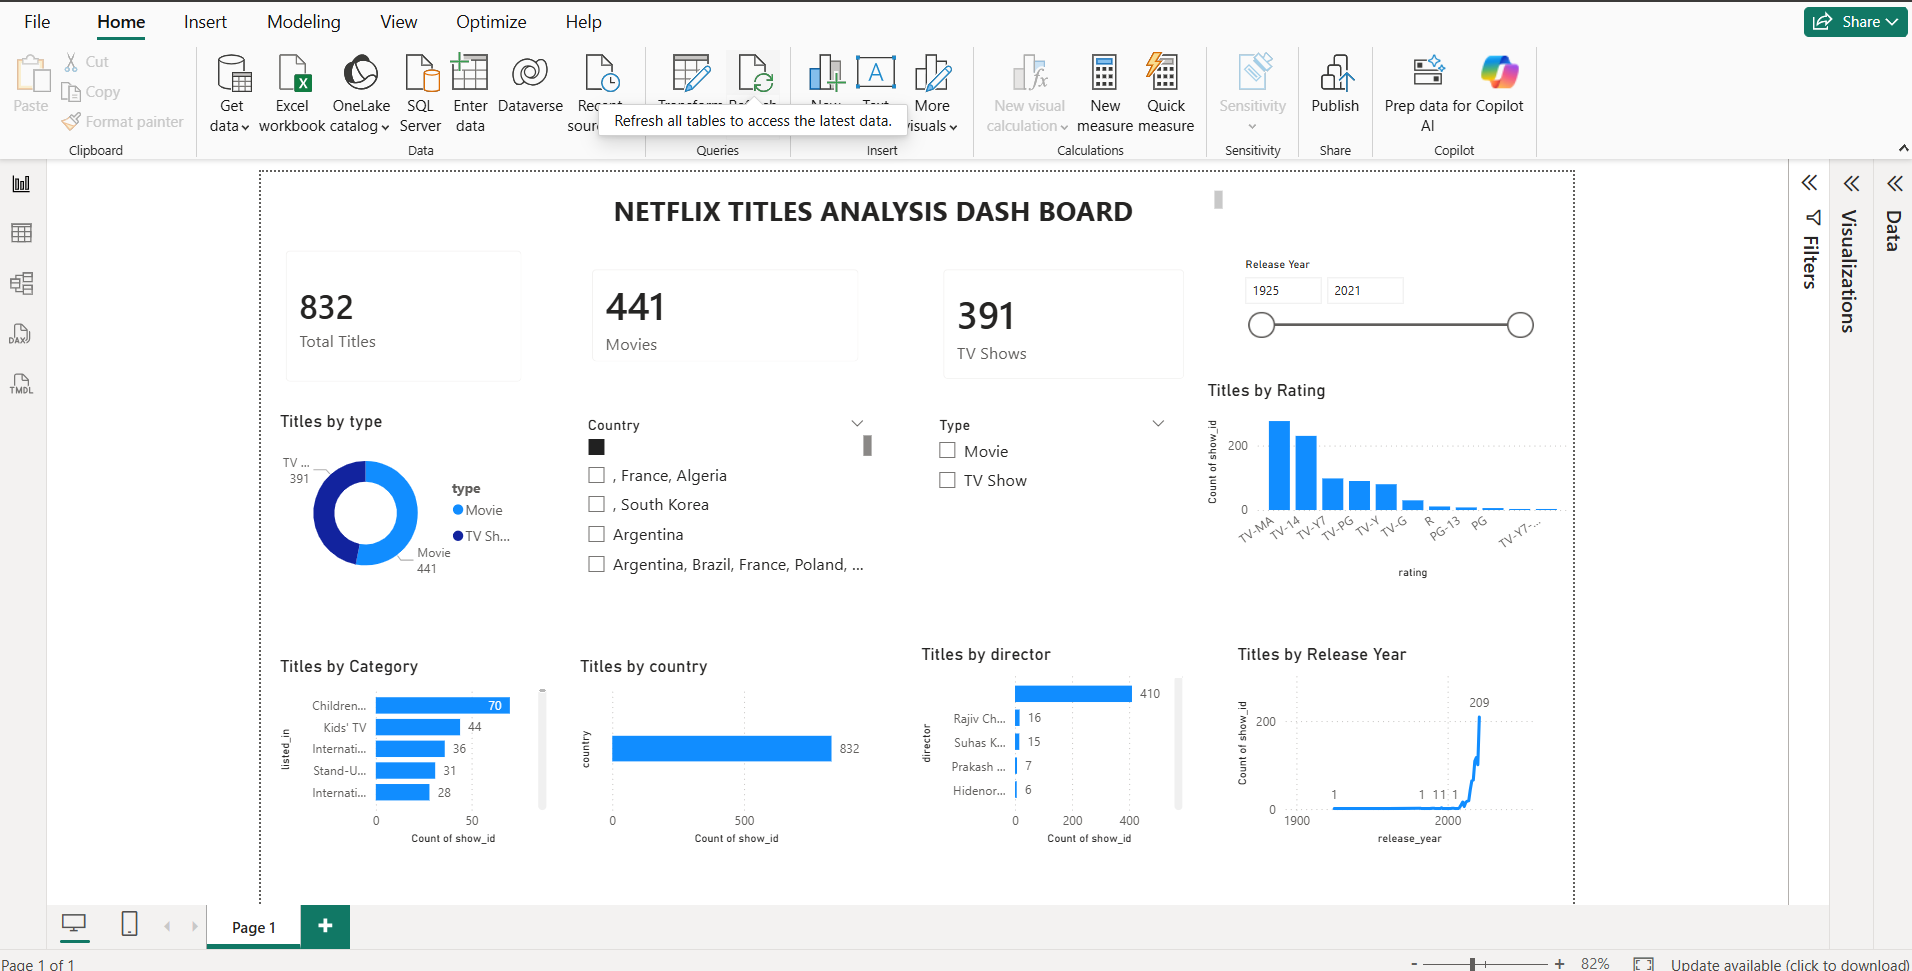

This screenshot's page, from the dashboard's own definition file:
{"tool":"powerbi","page":{"name":"Page 1","canvas":[1280,720],"ordinal":0},"visuals":[{"type":"cardVisual","fields":{"Data":["CountNonNull(netflix_titles.show_id)"]},"box":[7.3,59.9,264.1,162.6],"z":0},{"type":"cardVisual","fields":{"Data":["CountNonNull(netflix_titles.show_id)"]},"box":[305.7,78.3,294.7,124.7],"z":1000},{"type":"cardVisual","fields":{"Data":["CountNonNull(netflix_titles.show_id)"]},"box":[649.3,78.3,269,141.8],"z":2000},{"type":"donutChart","title":"Titles by type","fields":{"Category":["netflix_titles.type"],"Y":["CountNonNull(netflix_titles.show_id)"]},"box":[13.5,232.3,250.7,181],"z":3000},{"type":"lineChart","title":"Titles by Release Year","fields":{"Category":["netflix_titles.release_year"],"Y":["CountNonNull(netflix_titles.show_id)"]},"box":[947.7,459.8,302,201.8],"z":4000},{"type":"clusteredBarChart","title":"Titles by Category","fields":{"Category":["netflix_titles.listed_in"],"Y":["CountNonNull(netflix_titles.show_id)"]},"box":[13.5,472,270.2,189.5],"z":5000},{"type":"clusteredColumnChart","title":"Titles by Rating","fields":{"Category":["netflix_titles.rating"],"Y":["CountNonNull(netflix_titles.show_id)"]},"box":[918.3,203,362,199.3],"z":6000},{"type":"clusteredBarChart","title":"Titles by country","fields":{"Category":["netflix_titles.country"],"Y":["CountNonNull(netflix_titles.show_id)"]},"box":[305.7,472,294.7,189.5],"z":7000},{"type":"clusteredBarChart","title":"Titles by director","fields":{"Category":["netflix_titles.director"],"Y":["CountNonNull(netflix_titles.show_id)"]},"box":[639.5,459.8,265.4,201.8],"z":8000},{"type":"slicer","fields":{"Values":["netflix_titles.type"]},"box":[649.3,232.3,245.8,170],"z":9000},{"type":"slicer","fields":{"Values":["netflix_titles.release_year"]},"box":[947.7,78.3,302,124.7],"z":10000},{"type":"slicer","fields":{"Values":["netflix_titles.country"]},"box":[305.7,232.3,294.7,170],"z":11000},{"type":"textbox","box":[259.2,13.5,683.6,46.5],"z":12000}]}

Visuals, with their boxes on the page's 1280x720 design canvas (x1, y1, x2, y2). These are canvas units, not pixel positions in the 1912x971 screenshot, which may show the page scaled, cropped or inside an application window:
cardVisual - CountNonNull(netflix_titles.show_id): l=7, t=60, r=271, b=222
cardVisual - CountNonNull(netflix_titles.show_id): l=306, t=78, r=600, b=203
cardVisual - CountNonNull(netflix_titles.show_id): l=649, t=78, r=918, b=220
"Titles by type" donutChart: l=14, t=232, r=264, b=413
"Titles by Release Year" lineChart: l=948, t=460, r=1250, b=662
"Titles by Category" clusteredBarChart: l=14, t=472, r=284, b=662
"Titles by Rating" clusteredColumnChart: l=918, t=203, r=1280, b=402
"Titles by country" clusteredBarChart: l=306, t=472, r=600, b=662
"Titles by director" clusteredBarChart: l=640, t=460, r=905, b=662
slicer - netflix_titles.type: l=649, t=232, r=895, b=402
slicer - netflix_titles.release_year: l=948, t=78, r=1250, b=203
slicer - netflix_titles.country: l=306, t=232, r=600, b=402
textbox: l=259, t=14, r=943, b=60
